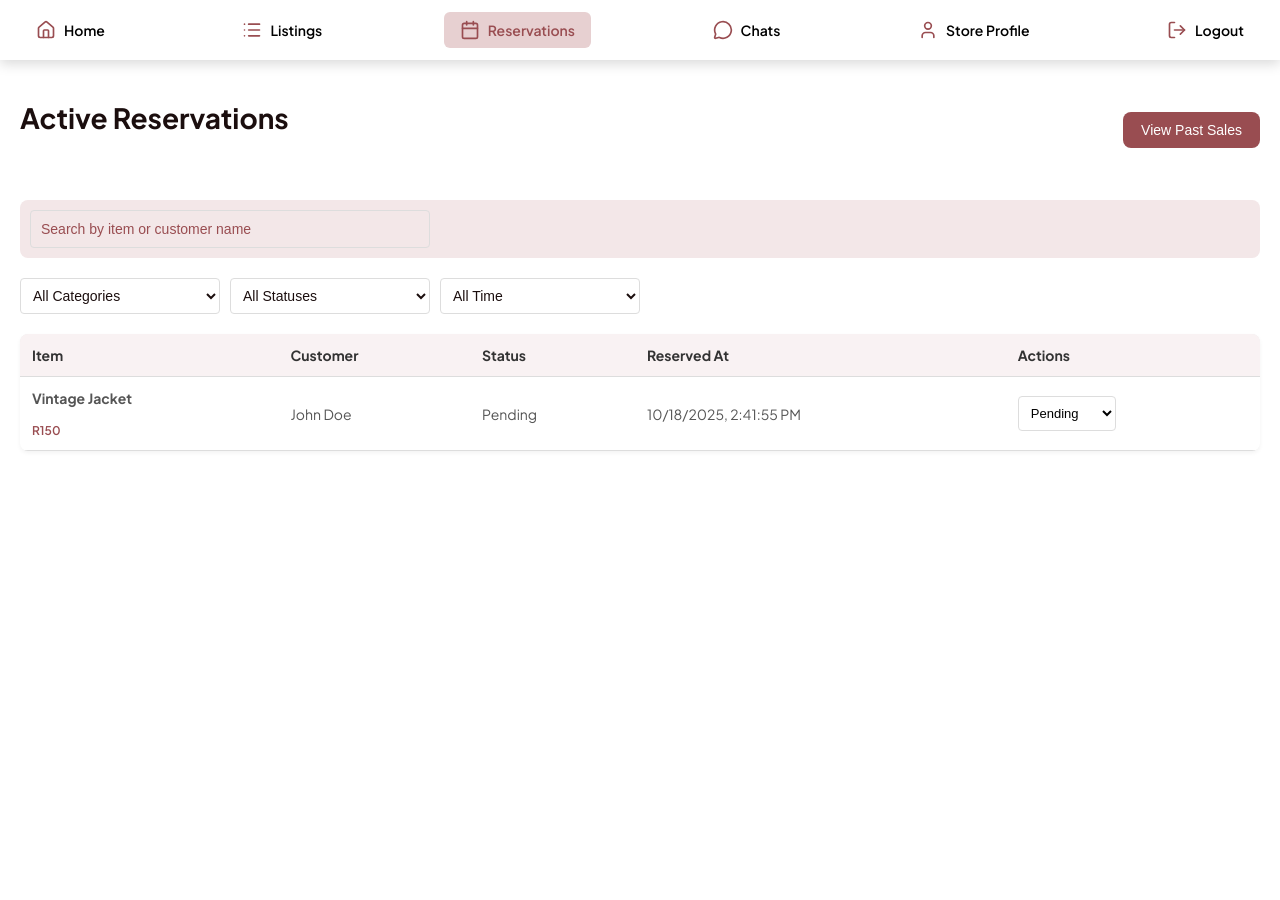
Test: StoreReservations › Modal Functionality › opens modal when reservation is clicked
Check: the text "Vintage Jacket" is shown, box [32,389,132,407]
Click the text "Vintage Jacket".
click(640, 414)  # box [20,376,1260,450]
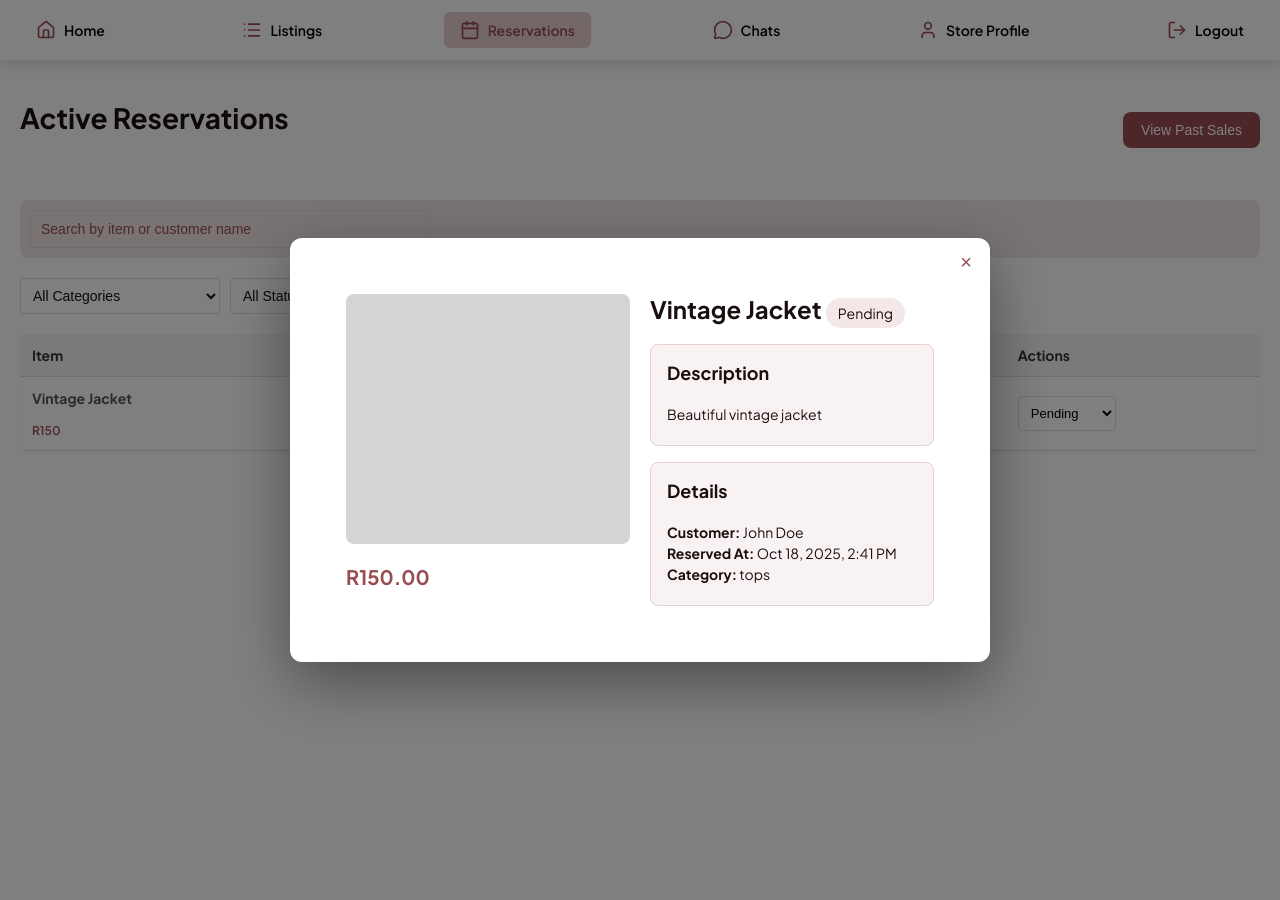
Check: the text "Beautiful vintage jacket" is shown, box [667,405,822,423]
Check: the button "×" is shown, box [954,250,978,275]
